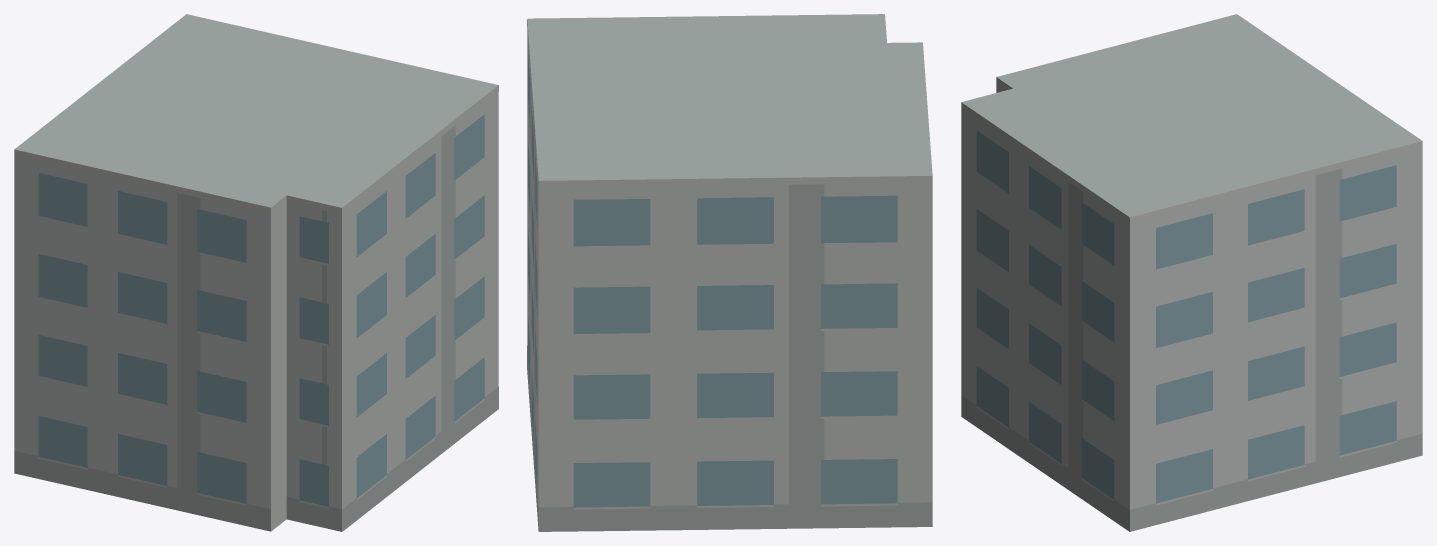
File: residential-c008cc6c-90a0-4161-ae9b-d2d9852578db.glb
3 renders of one model, left to right at view 1: azimuth 30°, elevation 25°; view 2: azimuth 150°, elevation 25°; view 3: azimuth 270°, elevation 25°, orthographic. The views are drawn at different scales.
Parts seen in each view (by area): view 1: residential-c008cc6c-90a0-4161-ae9b-d2d9852578db.tmp; view 2: residential-c008cc6c-90a0-4161-ae9b-d2d9852578db.tmp; view 3: residential-c008cc6c-90a0-4161-ae9b-d2d9852578db.tmp.
Boxes of the visible parts, x1=… form: residential-c008cc6c-90a0-4161-ae9b-d2d9852578db.tmp: x1=14, y1=14, x2=498, y2=531; residential-c008cc6c-90a0-4161-ae9b-d2d9852578db.tmp: x1=527, y1=14, x2=932, y2=531; residential-c008cc6c-90a0-4161-ae9b-d2d9852578db.tmp: x1=961, y1=14, x2=1422, y2=531.
Bounding box in the file's own units: 16.51 × 11.9 × 15.83.
